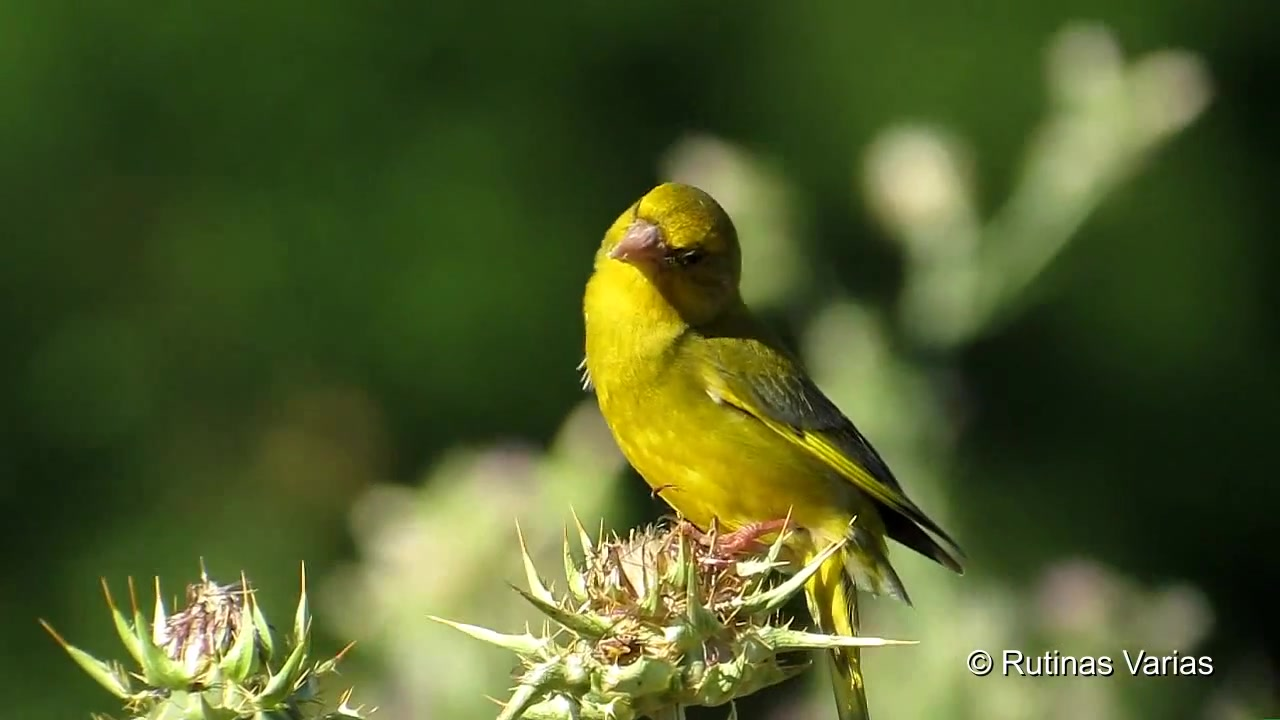bird: (578, 182, 968, 720)
